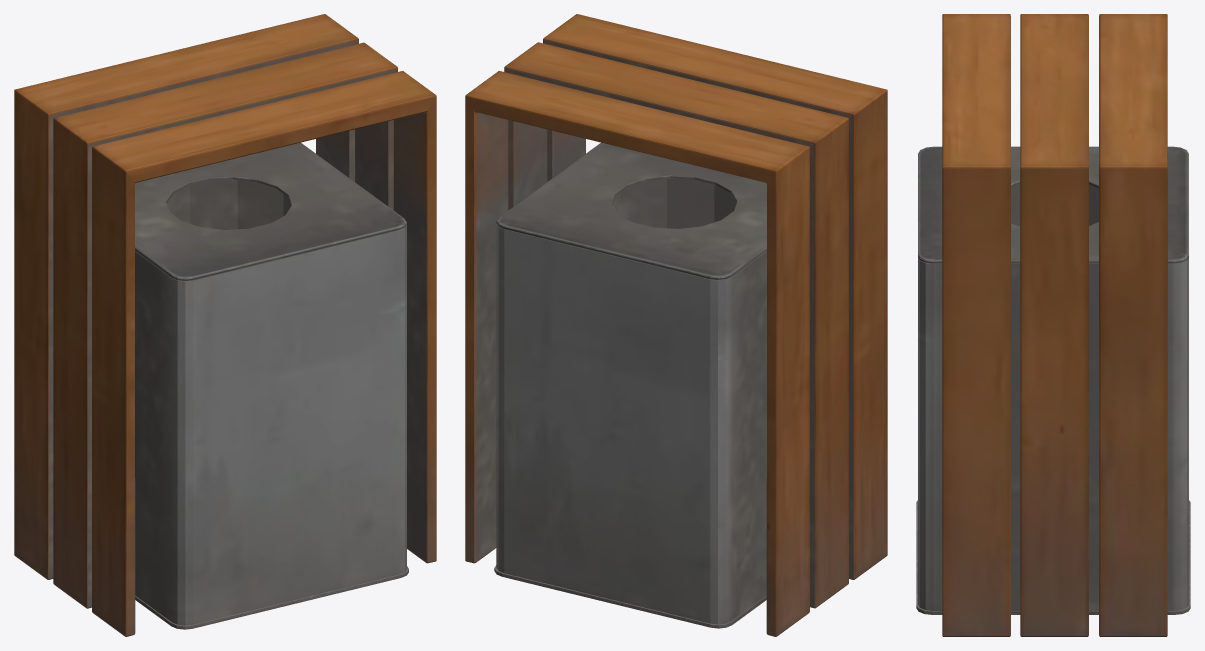
Rendered from strAsset_02.glb.
The picture shows the model from 3 angles, left to right: view 1: azimuth 30°, elevation 25°; view 2: azimuth 150°, elevation 25°; view 3: azimuth 270°, elevation 25°; orthographic projection.
Visible parts, largest first — view 1: geometry_0; view 2: geometry_0; view 3: geometry_0.
Part boxes in pixels (x1,y1,x2,y2): geometry_0: [14, 14, 436, 636]; geometry_0: [465, 14, 887, 636]; geometry_0: [916, 14, 1190, 636].
Size of the model in its own units: 0.1156 by 0.1655 by 0.0874.
1 material, 1 textured.
